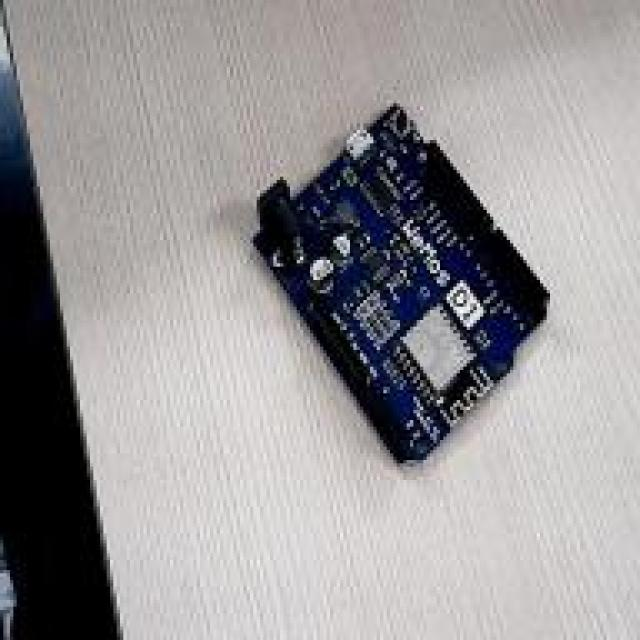Wemos: (254, 108, 548, 461)
